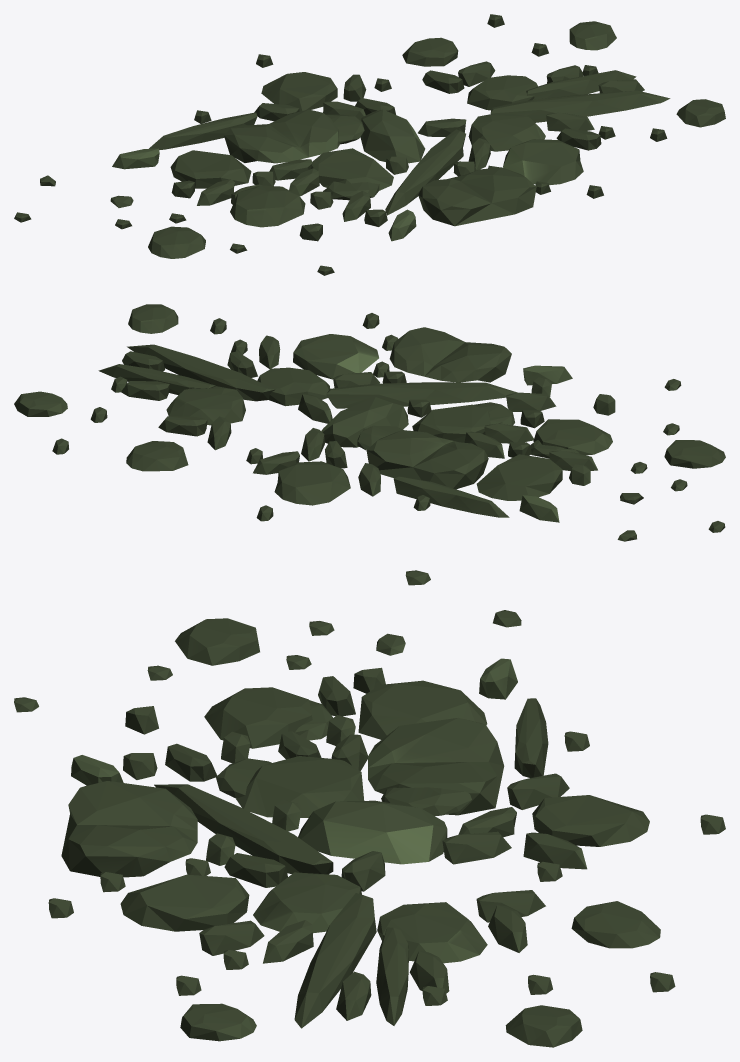
Rendered from EA_Swamp_Stones_03a.glb.
3 renders of one model, top to bottom at view 1: azimuth 30°, elevation 25°; view 2: azimuth 150°, elevation 25°; view 3: azimuth 270°, elevation 25°, orthographic. The views are drawn at different scales.
Parts seen in each view (by area): view 1: EA_Swamp_Stones_03a; view 2: EA_Swamp_Stones_03a; view 3: EA_Swamp_Stones_03a.
Boxes of the visible parts, x1=… form: EA_Swamp_Stones_03a: x1=14, y1=14, x2=725, y2=275; EA_Swamp_Stones_03a: x1=14, y1=304, x2=725, y2=541; EA_Swamp_Stones_03a: x1=14, y1=570, x2=725, y2=1047.
Size of the model in its own units: 8.95 by 0.2985 by 5.72.
Materials: 1 (1 with a texture image).
